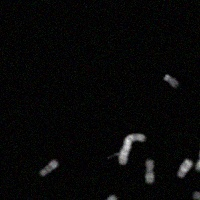chromosome: (119, 132, 145, 165), (39, 160, 58, 177), (177, 158, 192, 177), (144, 159, 155, 184), (195, 124, 200, 172), (163, 74, 178, 87), (99, 194, 116, 200), (192, 191, 200, 200)
